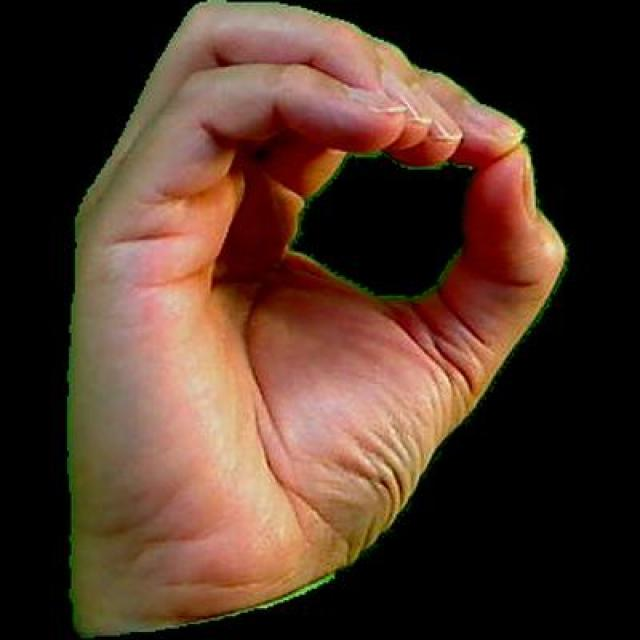o: (48, 0, 587, 637)
